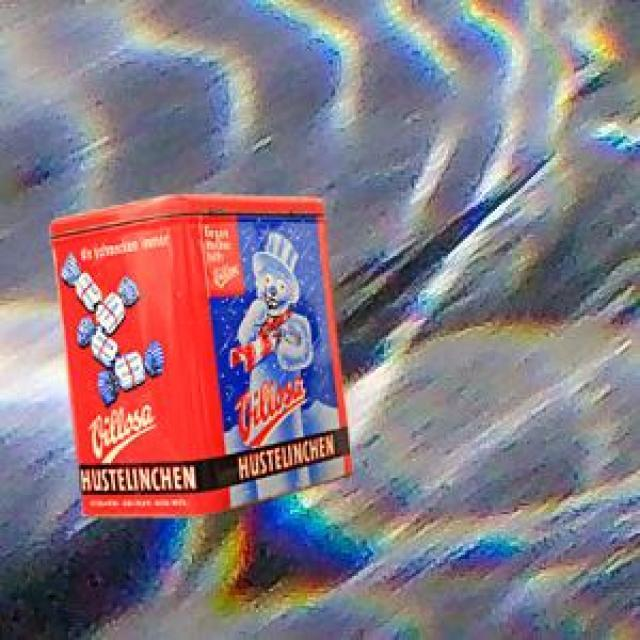Can: (46, 191, 351, 515)
